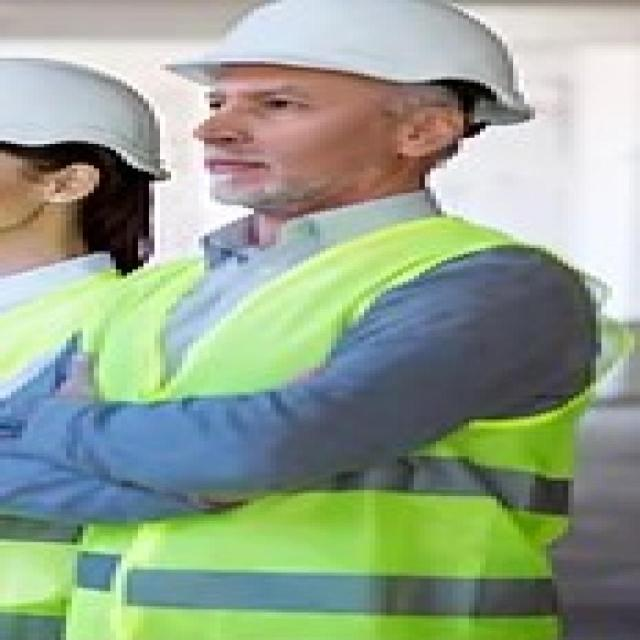Helmet: (131, 3, 640, 236), (0, 32, 206, 260)
Safety Vest: (34, 192, 632, 640), (0, 221, 135, 640)
